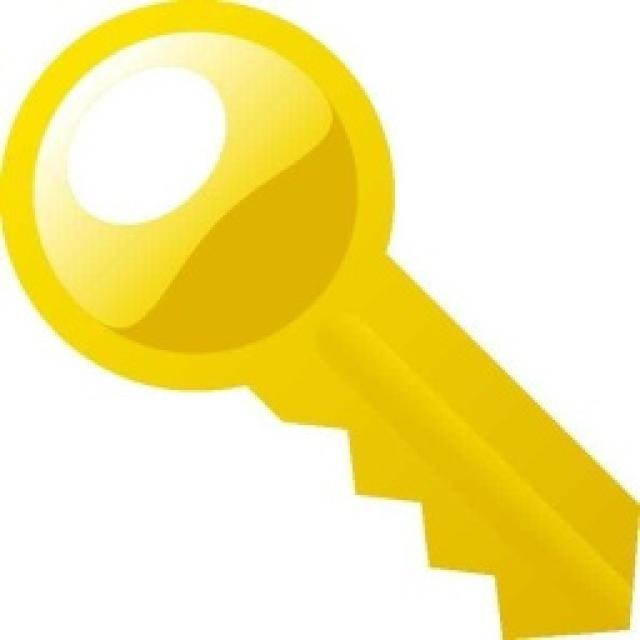anahtar: (0, 1, 638, 638)
